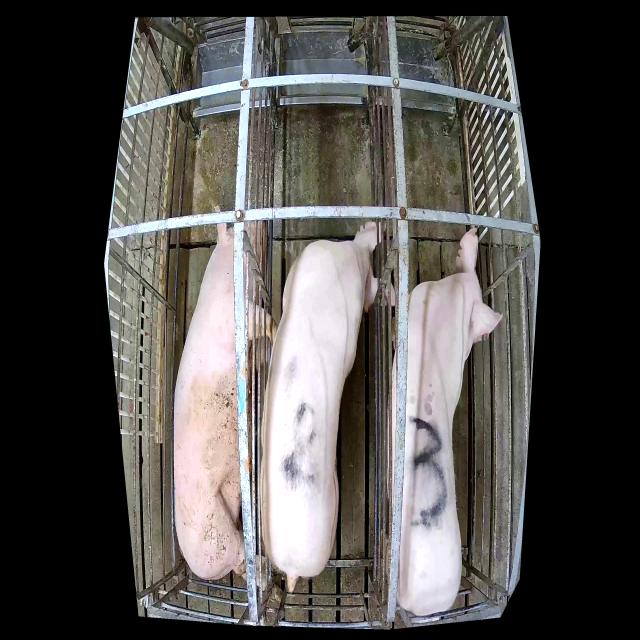pig: (260, 222, 395, 592), (382, 227, 503, 617), (174, 206, 282, 609)
